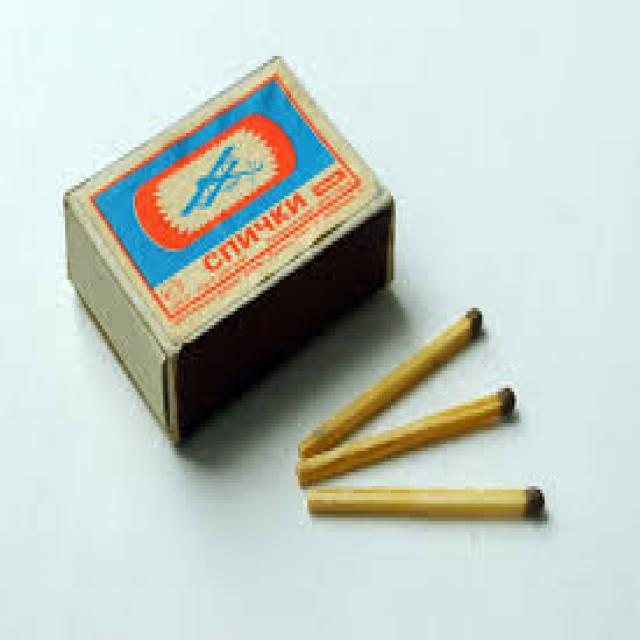match: (60, 50, 400, 452)
